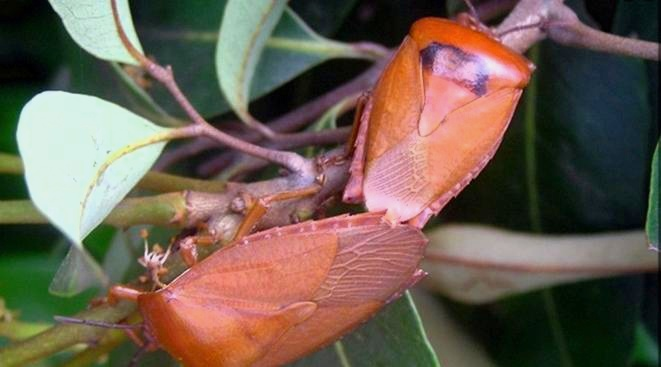Stink_Bug: (132, 212, 444, 361), (373, 13, 518, 208)
